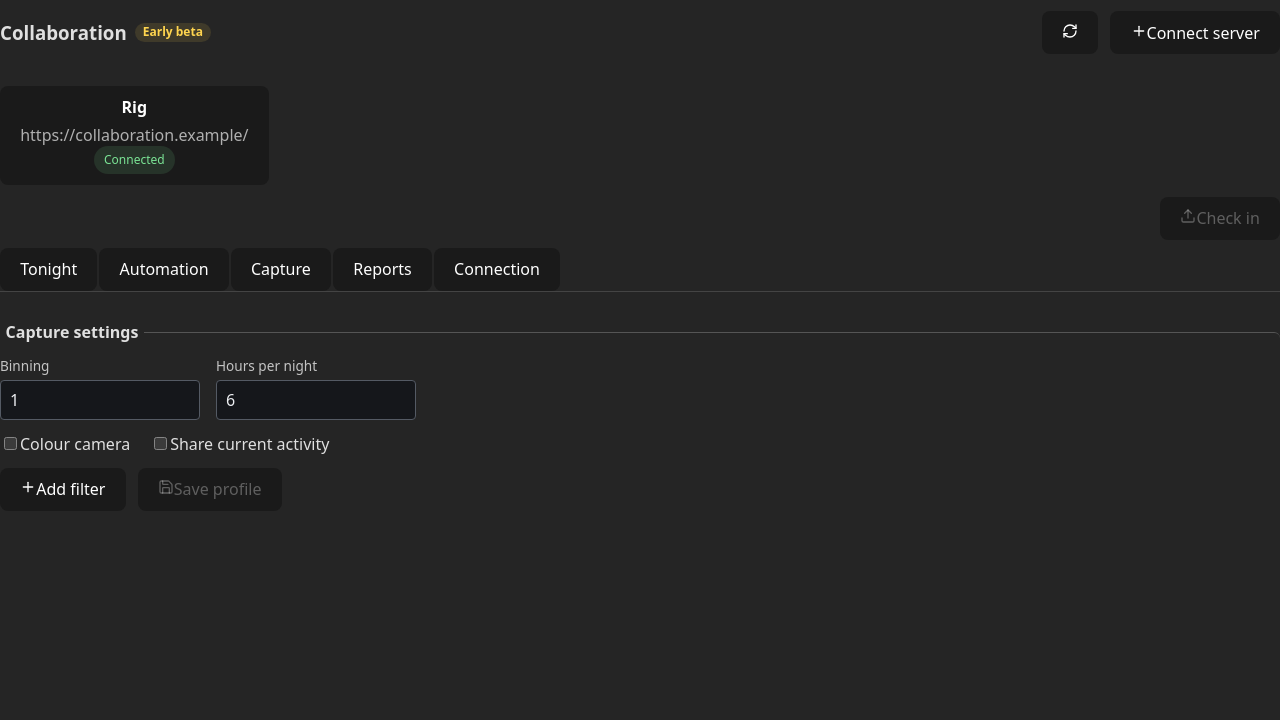
CollaborationConnections › refreshes an already mounted capture form after finishing setup
The image size is (1280, 720).
Expected: the button "Add filter" is shown, x1=0 y1=468 x2=126 y2=511
Click the tab "Connection" at (497, 270), box x1=434 y1=248 x2=560 y2=291
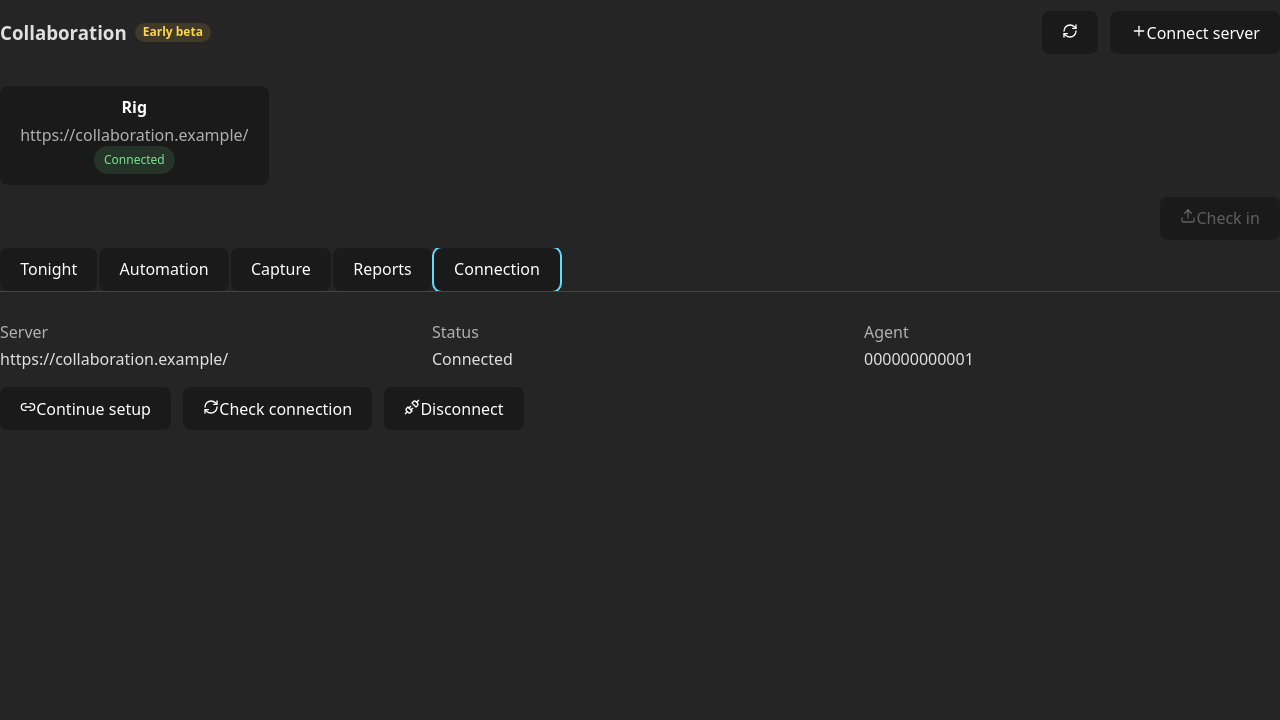
Click the button "Continue setup" at (86, 409), box x1=0 y1=387 x2=171 y2=430
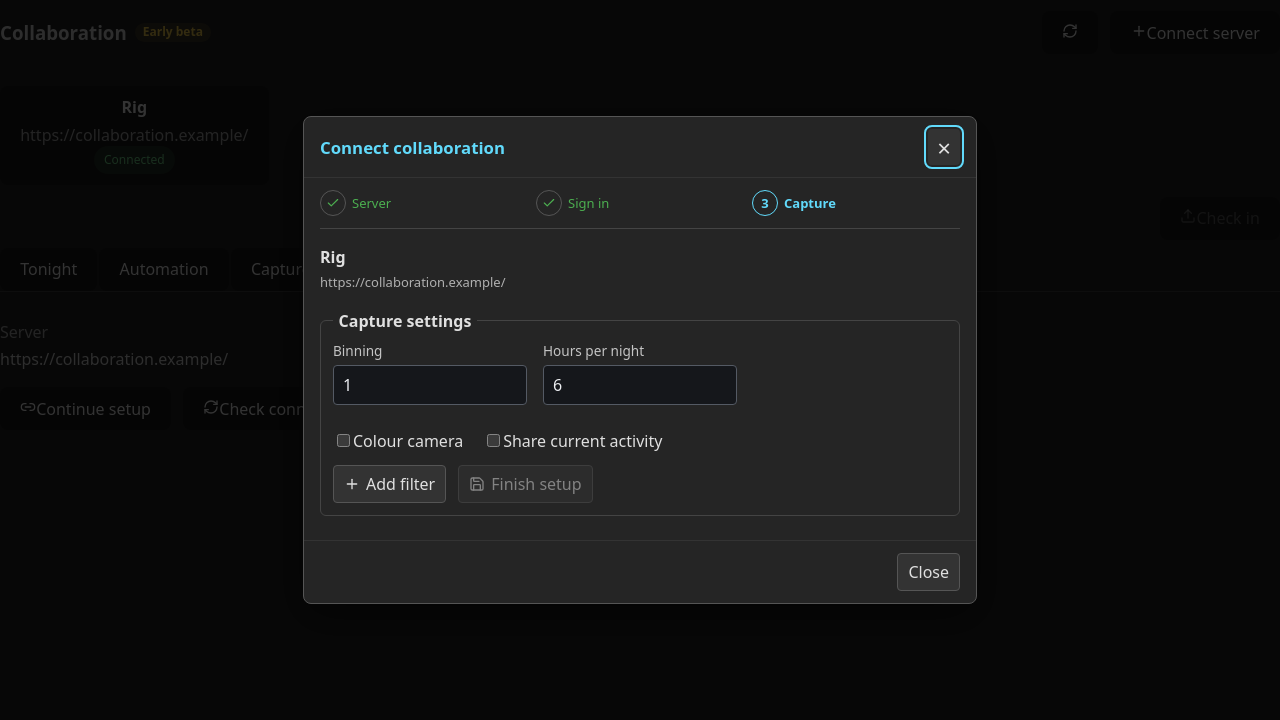
Click the button "Add filter" at (390, 484), box x1=333 y1=464 x2=446 y2=502
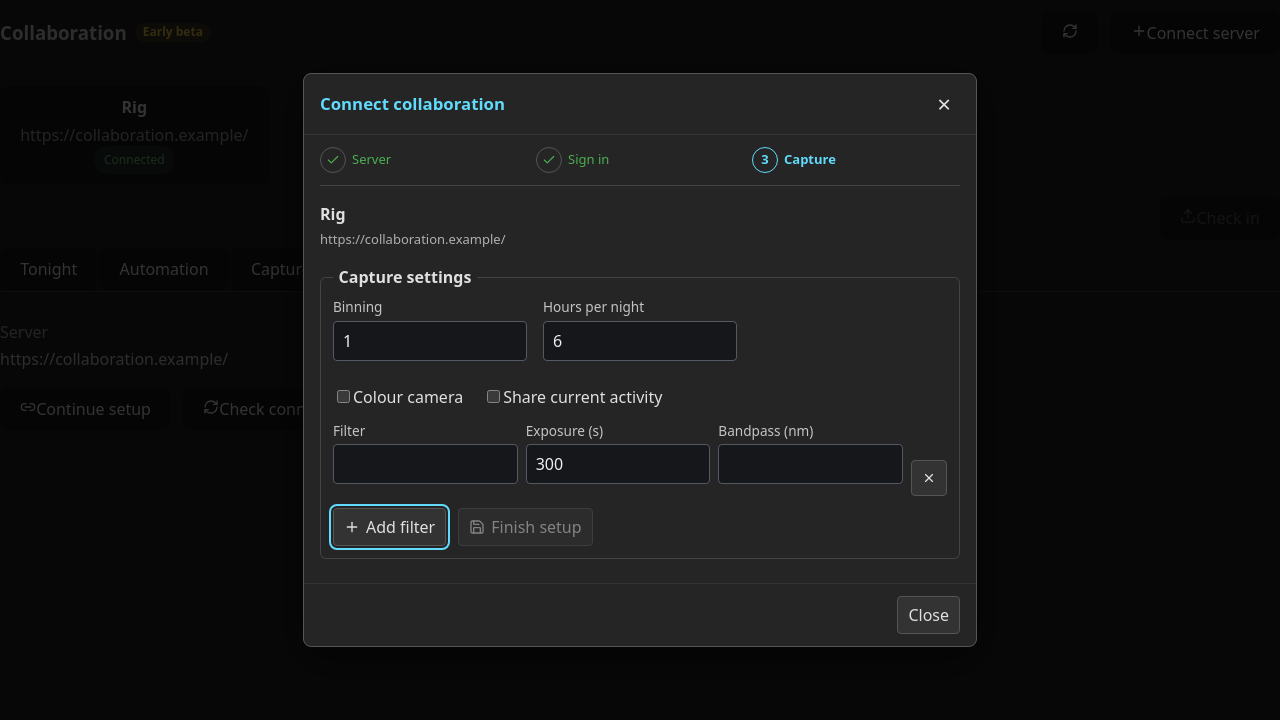
Type "OIII" into the field named "Filter 1" at (425, 464), box x1=333 y1=444 x2=518 y2=484
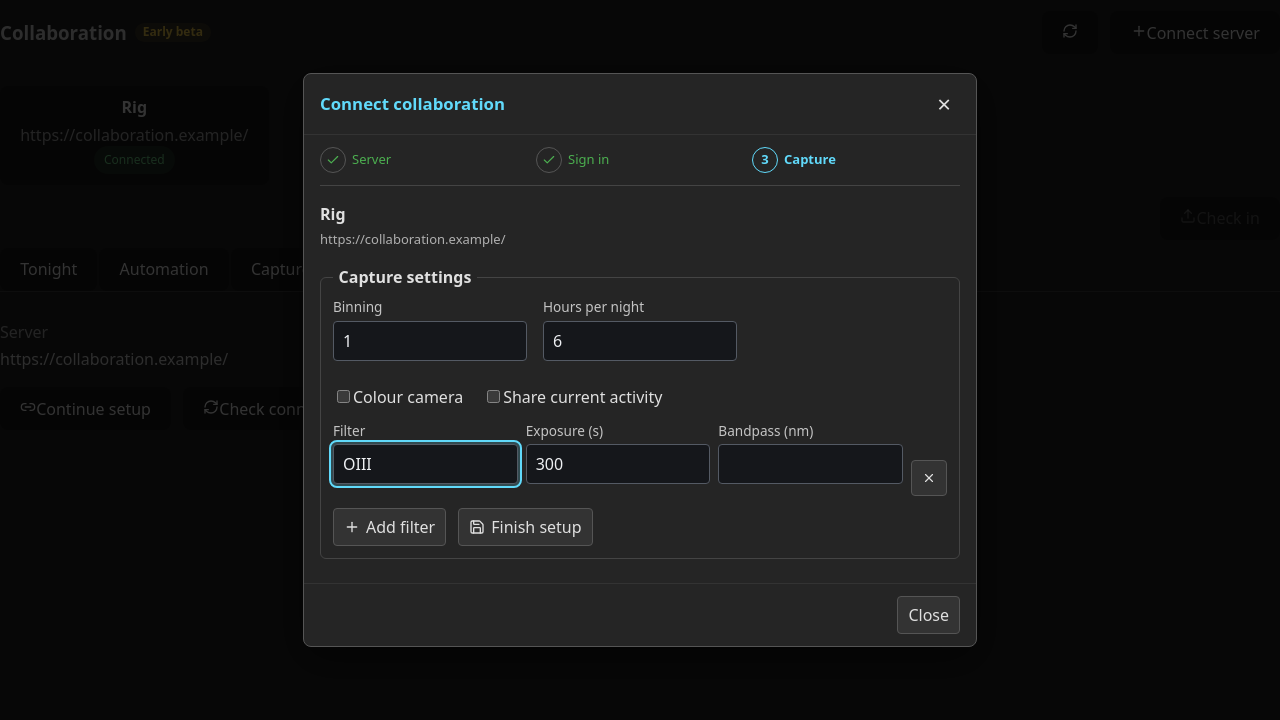
Click the button "Finish setup" at (525, 527), box x1=458 y1=508 x2=593 y2=546
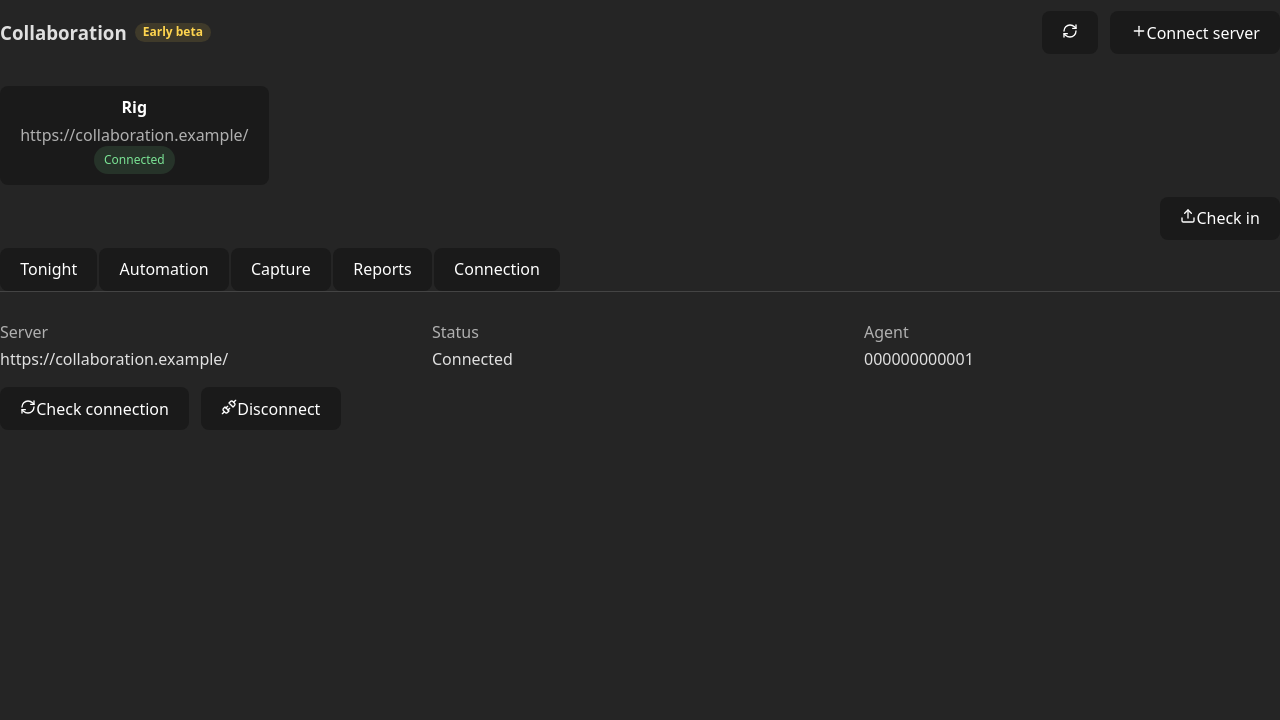
Now the dialog is gone
Click the tab "Capture" at (281, 270), box x1=231 y1=248 x2=331 y2=291
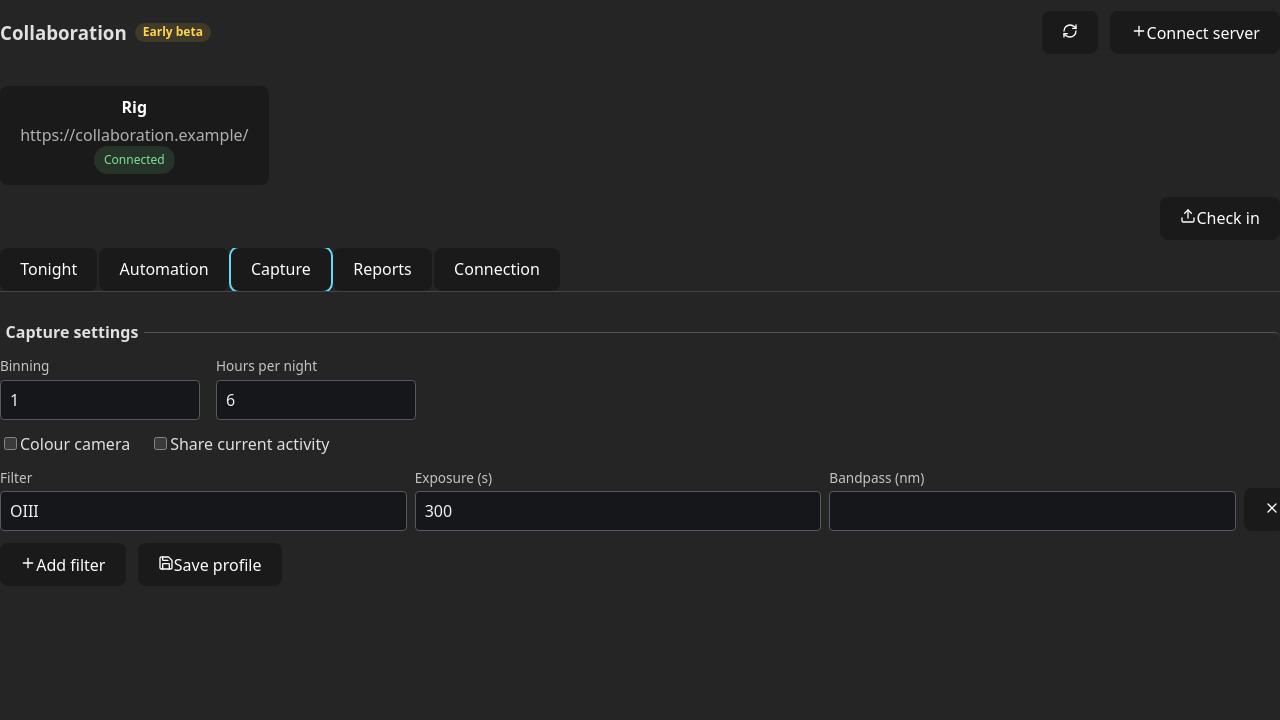
Now the field named "Filter 1" holds "OIII", box x1=0 y1=491 x2=407 y2=531
